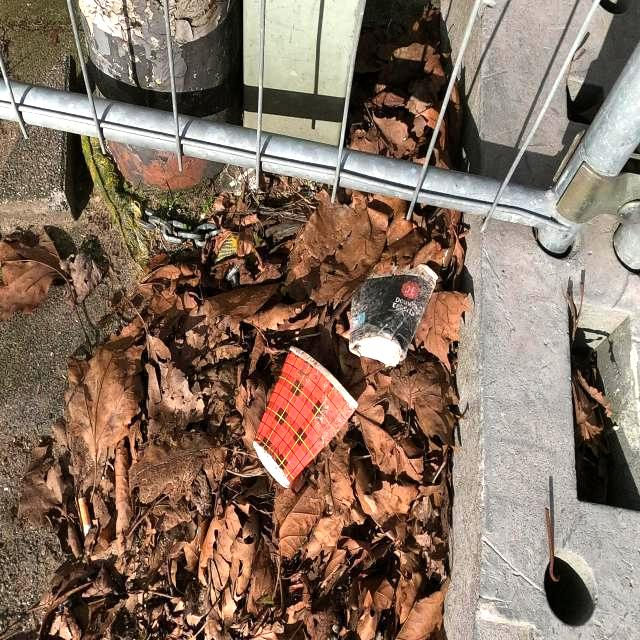Coffee Cup: (250, 342, 360, 492), (347, 259, 439, 369)
